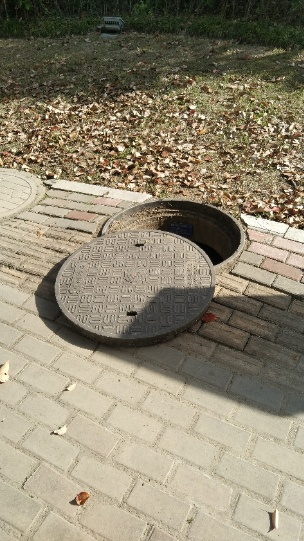well: (33, 198, 248, 355)
